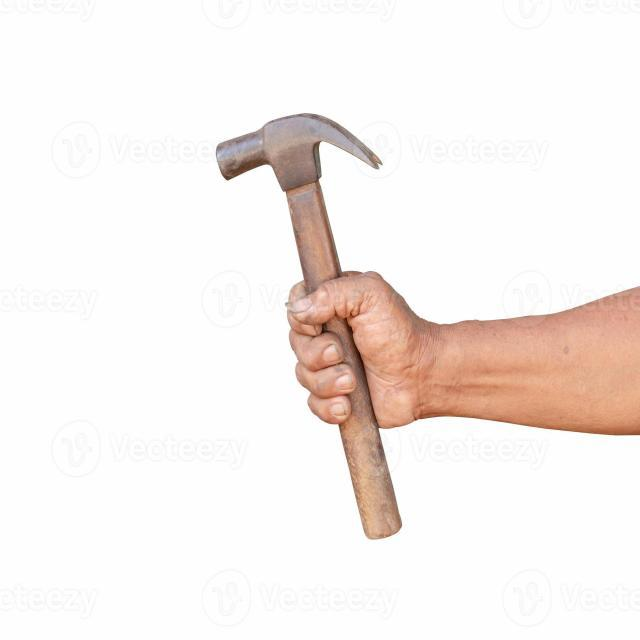hammer: (208, 95, 410, 542)
